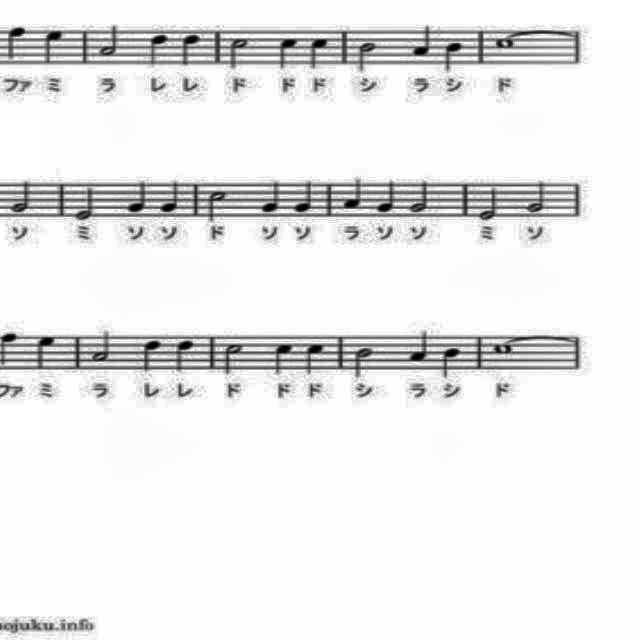Full-note: (489, 338, 518, 356), (492, 33, 516, 51)
Half-note: (72, 175, 100, 227), (474, 172, 502, 224), (522, 175, 554, 218), (204, 180, 232, 226), (404, 177, 432, 221), (352, 342, 380, 384), (220, 334, 244, 382), (88, 328, 116, 368), (8, 175, 32, 219), (228, 33, 252, 73), (354, 38, 380, 74), (96, 23, 120, 59)
Quarter-note: (0, 22, 32, 62), (404, 324, 434, 366), (274, 28, 300, 76), (40, 26, 68, 70), (340, 174, 368, 218), (437, 342, 467, 382), (35, 328, 61, 374), (304, 332, 328, 380), (0, 328, 26, 372), (146, 32, 174, 72), (124, 172, 150, 215), (308, 33, 334, 75), (157, 176, 183, 217), (409, 20, 433, 64), (180, 28, 204, 70), (138, 338, 166, 374), (292, 179, 318, 217), (373, 176, 397, 217), (442, 40, 466, 80), (260, 180, 284, 220), (270, 338, 294, 378), (174, 338, 198, 374)
